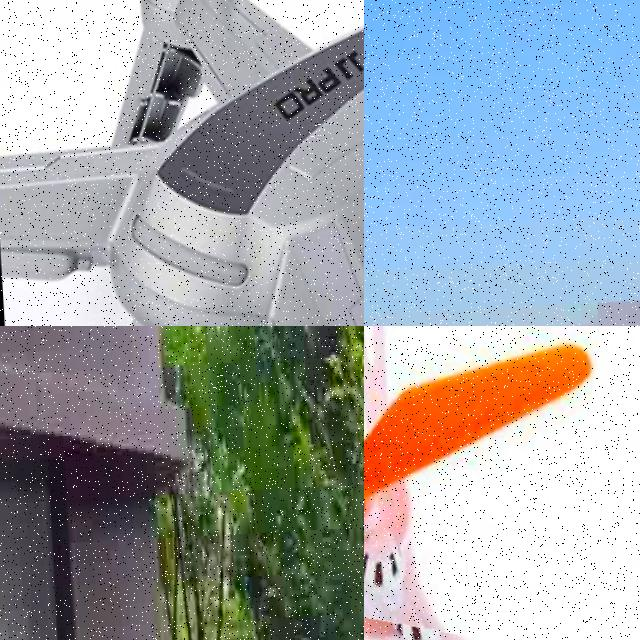drone: (0, 0, 364, 326), (364, 326, 640, 640)
